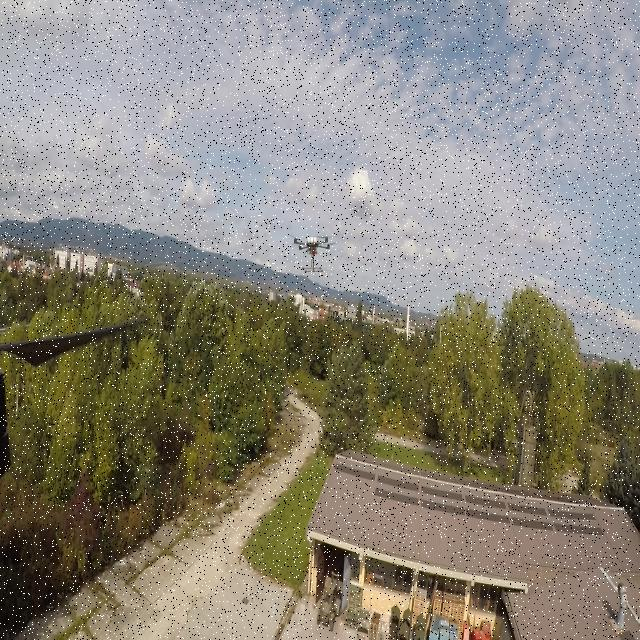UAV: (284, 232, 340, 278)
